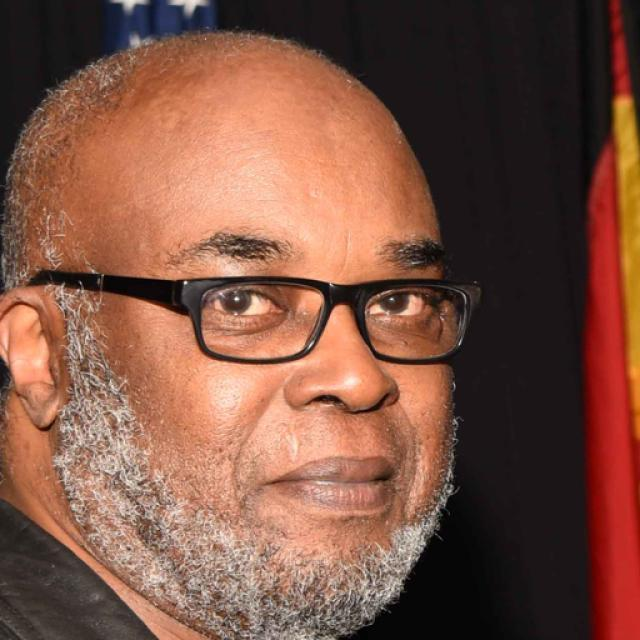disgust: (62, 72, 462, 640)
